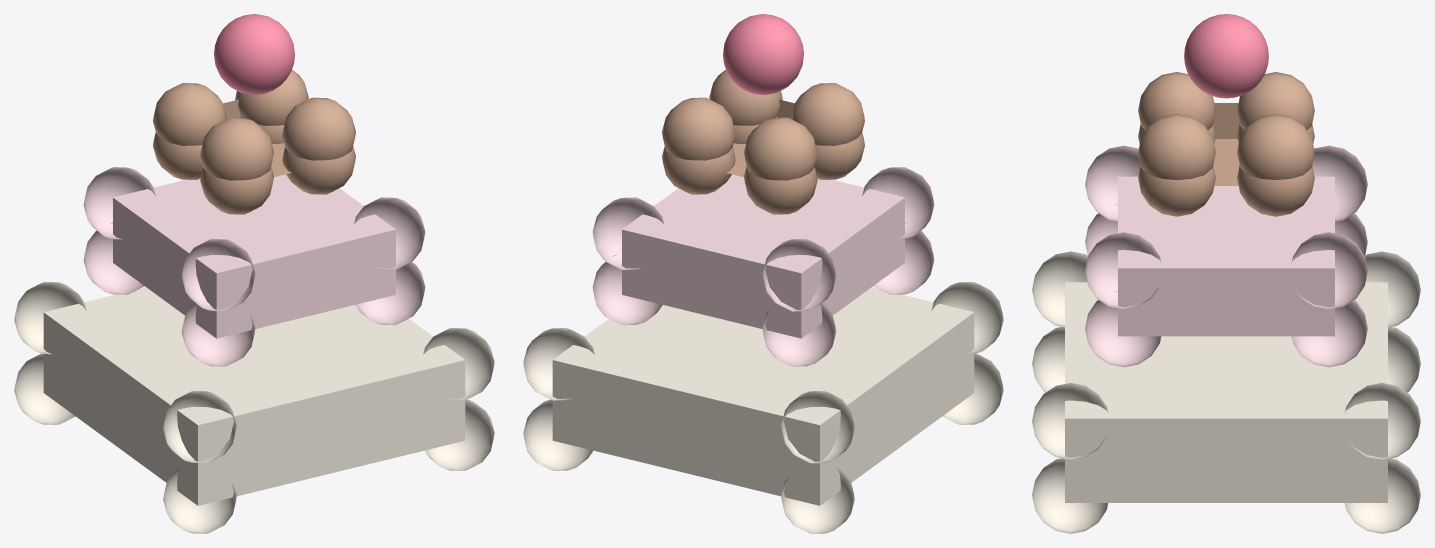
Rendered from cake.glb.
3 renders of one model, left to right at view 1: azimuth 30°, elevation 25°; view 2: azimuth 150°, elevation 25°; view 3: azimuth 270°, elevation 25°, orthographic. The views are drawn at different scales.
Visible parts, largest first — view 1: cake; view 2: cake; view 3: cake.
Part boxes in pixels (x1=…): cake: x1=14, y1=14, x2=494, y2=533; cake: x1=523, y1=14, x2=1003, y2=533; cake: x1=1032, y1=14, x2=1420, y2=533.
Size of the model in its own units: 2.2 by 2.79 by 2.2.
